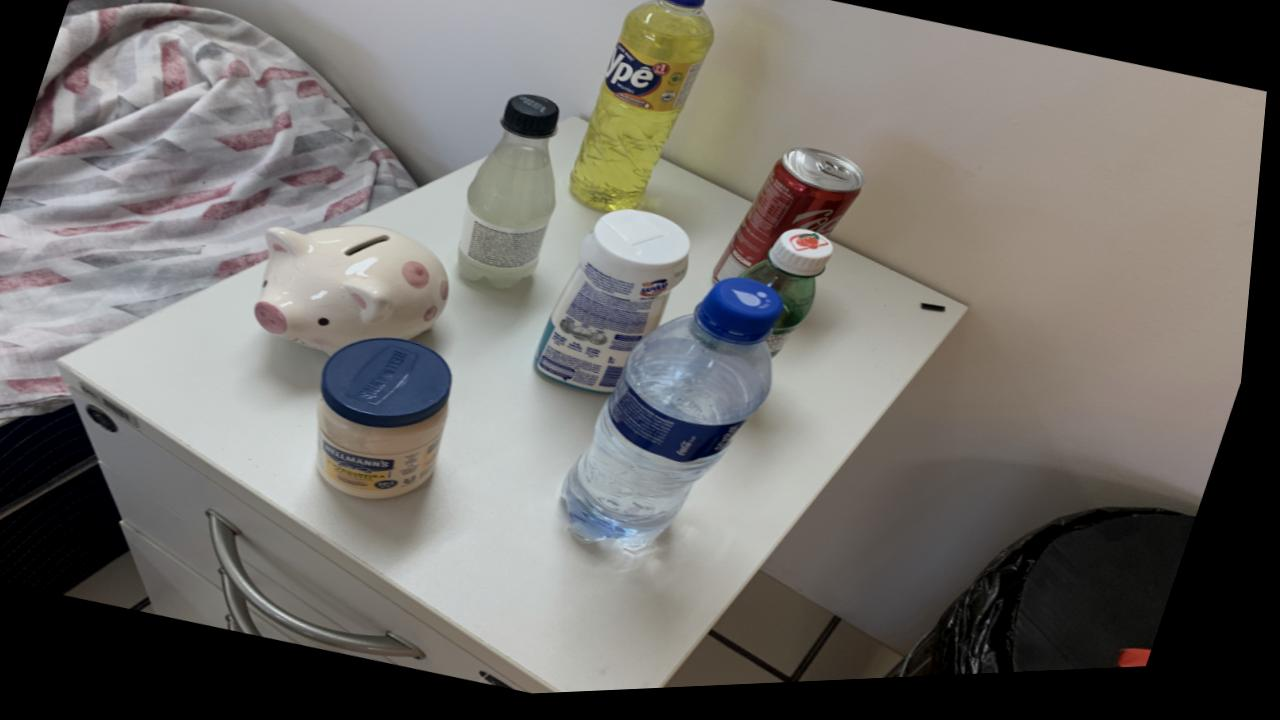Cleaner-Cleanup_Items: (541, 215, 695, 400)
Coke-Drinks: (718, 155, 869, 289)
Detergent-Cleanup_Items: (573, 0, 716, 218)
Guarana-Drinks: (747, 236, 839, 364)
Mayonnaise-Pantry_Items: (325, 341, 460, 503)
Pig_Safe-Miscellaneous: (259, 228, 455, 358)
Soda-Drinks: (463, 99, 562, 293)
Water_Bottle-Drinks: (572, 284, 790, 555)
